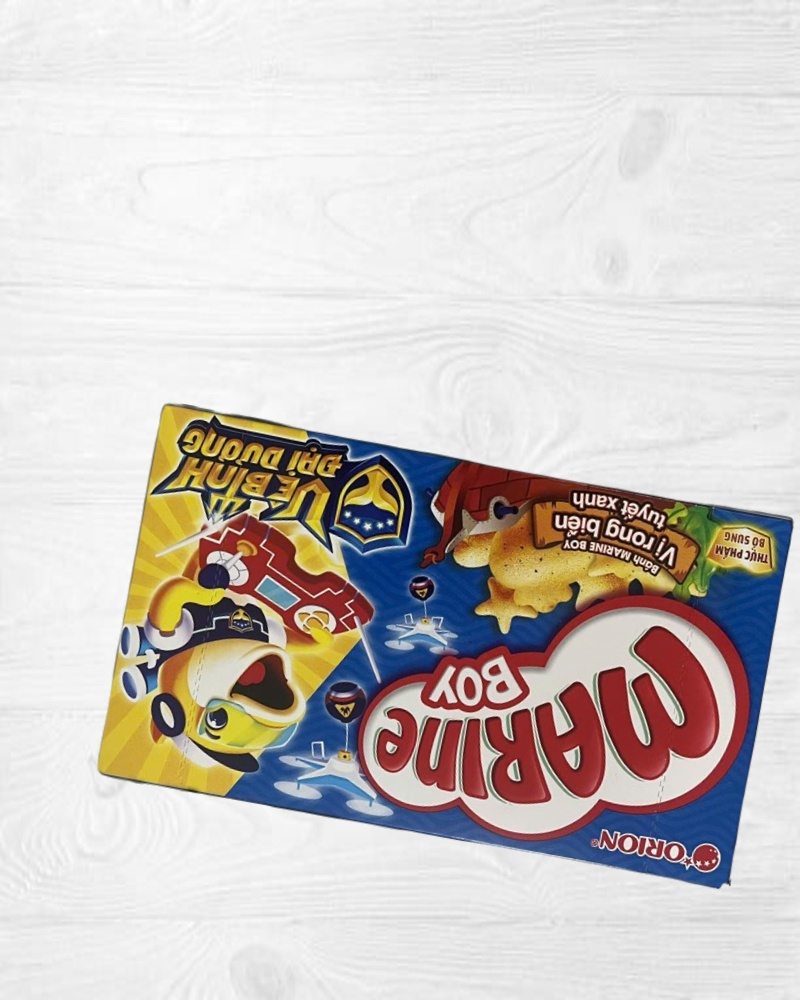Marine: (94, 402, 796, 891)
